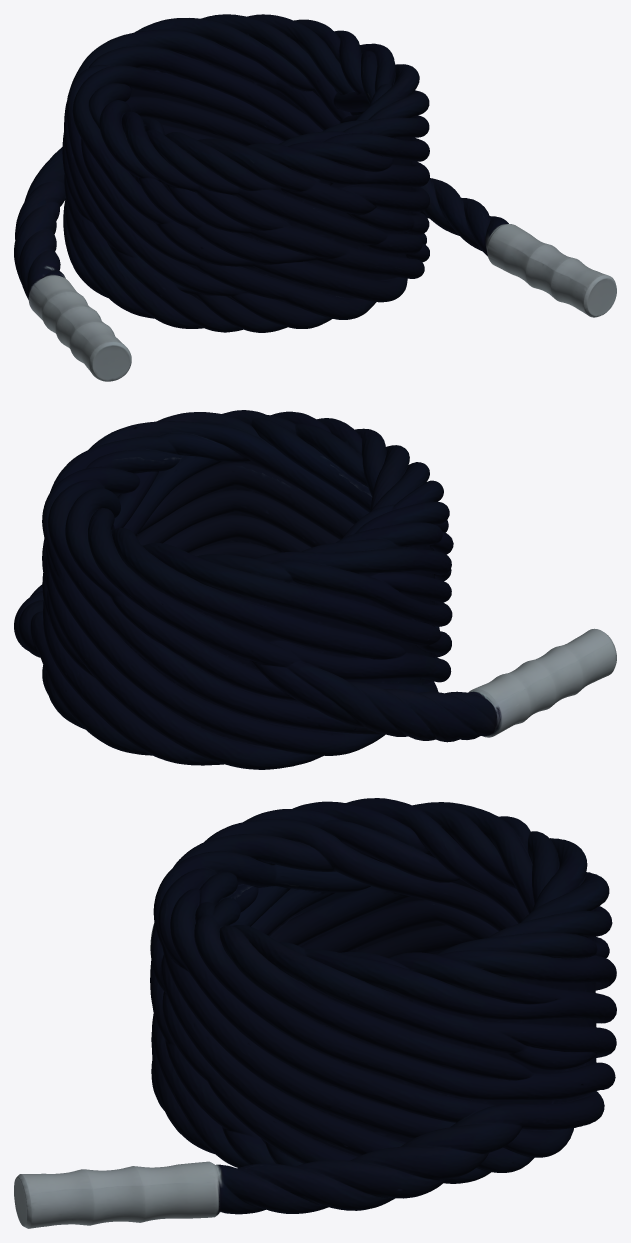
Rendered from battle_rope_coil__hunyuan.glb.
3 views of the same model, one above another, from view 1: azimuth 30°, elevation 25°; view 2: azimuth 150°, elevation 25°; view 3: azimuth 270°, elevation 25° (orthographic). The views are drawn at different scales.
Visible parts, largest first — view 1: material; view 2: material; view 3: material.
Part boxes in pixels (left/top/right/bottom): material: left=14, top=14, right=616, bottom=381; material: left=14, top=410, right=616, bottom=769; material: left=14, top=798, right=616, bottom=1228.
Bounding box in the file's own units: 0.8909 × 0.3267 × 0.8003.
1 material, 1 textured.
